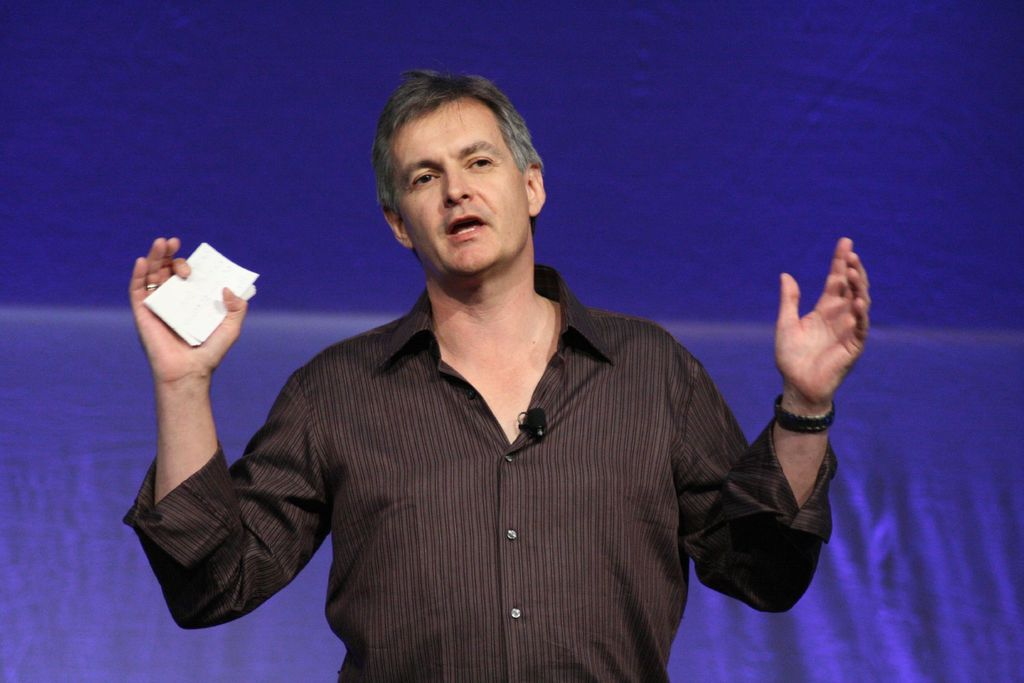Human_hand: (759, 240, 887, 452), (124, 235, 249, 389)
